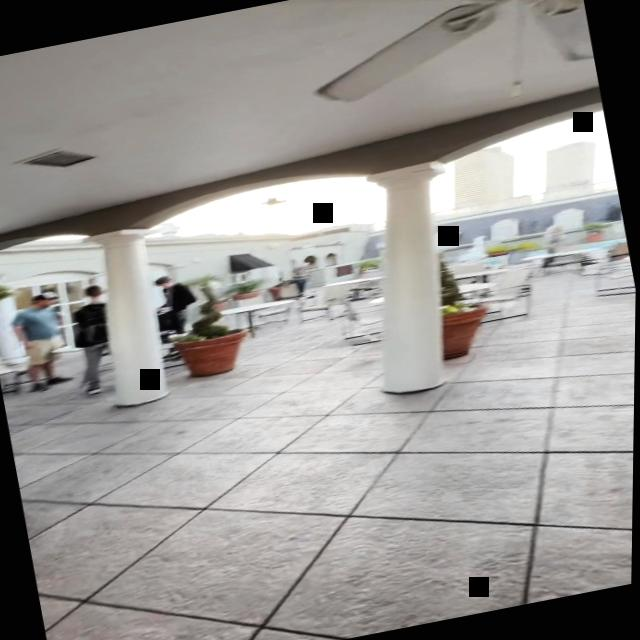NO-Mask: (38, 294, 59, 310), (156, 280, 171, 290)
